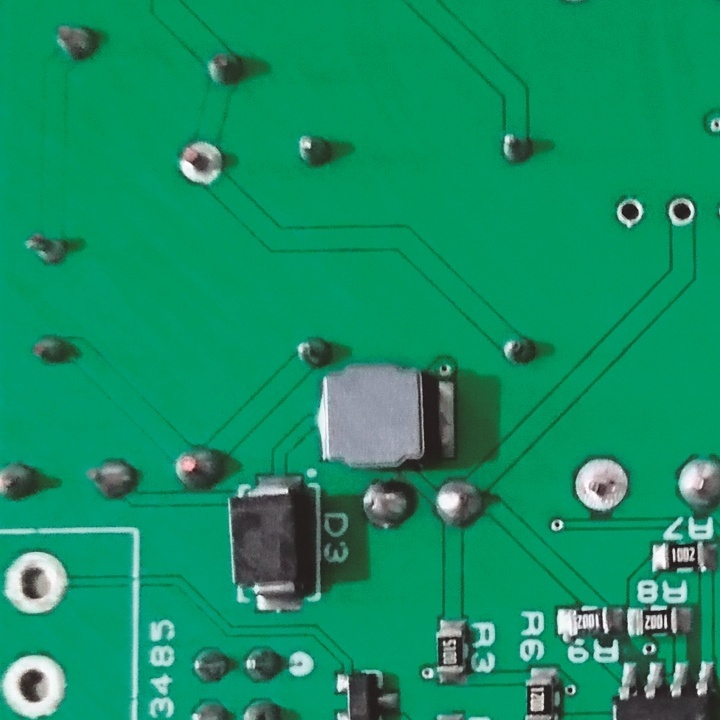F: (1, 649, 73, 720), (1, 546, 73, 614), (570, 455, 633, 520), (170, 135, 226, 190), (664, 192, 700, 234), (615, 197, 647, 232)
